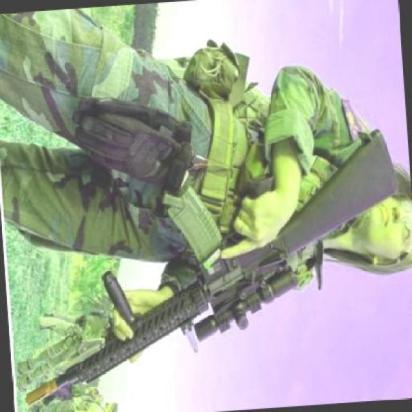Gun: (9, 138, 389, 412)
